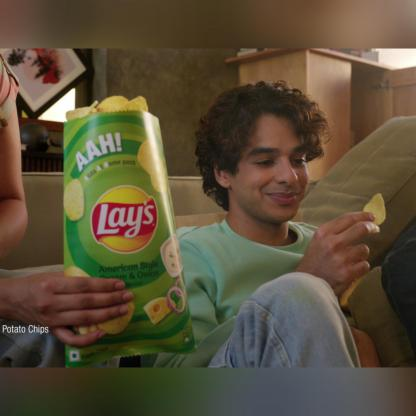potatochip: (61, 109, 199, 364)
